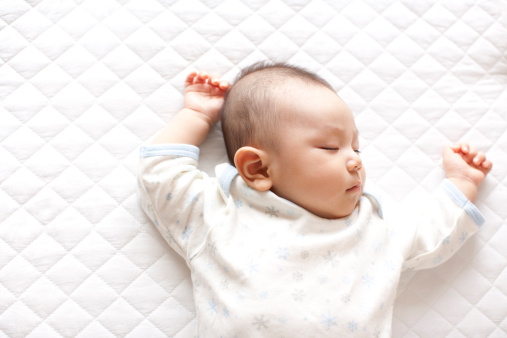deitado: (107, 64, 507, 326)
